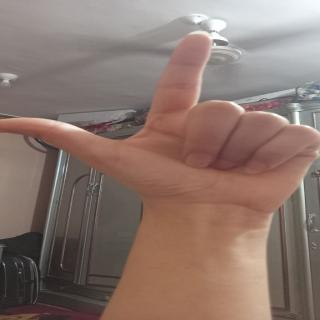LAAM: (0, 33, 320, 209)
